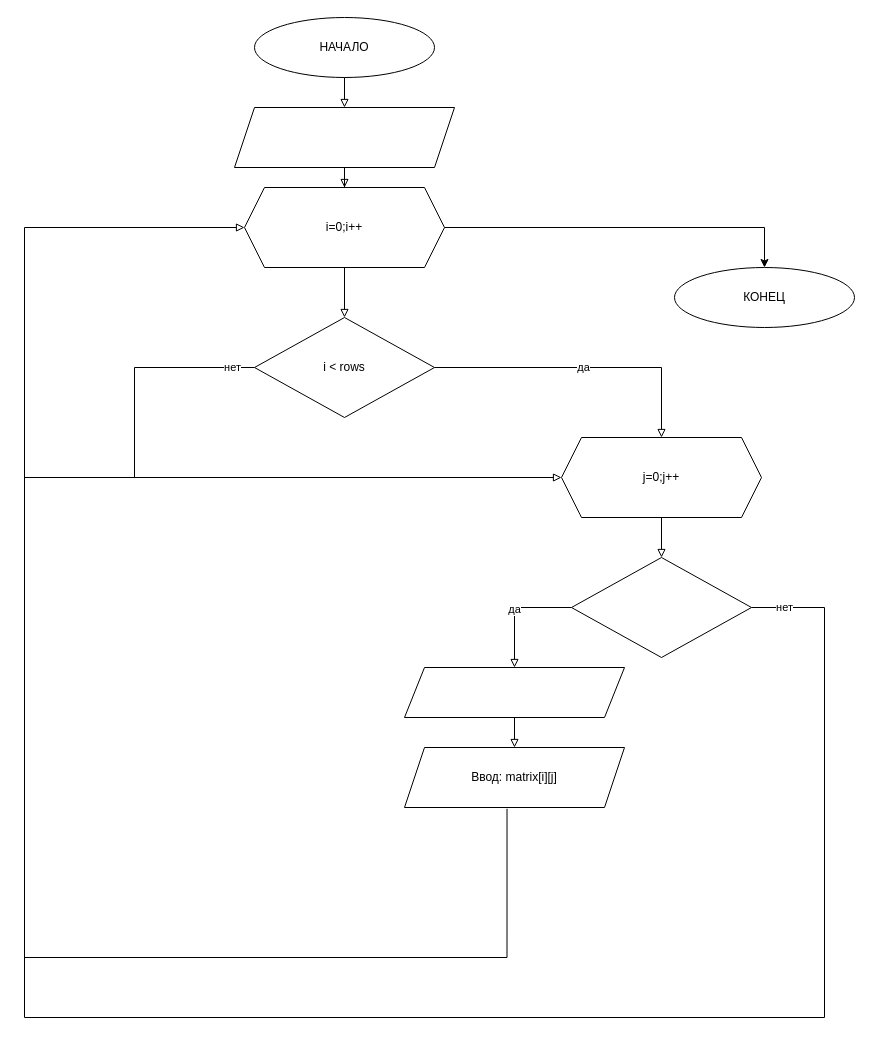
This 872x1043 diagram has some shape labels left out. Each missing label, with the centre of its shape:
j < columns: pixel 661 607
Вывод: "matrix[i][j] = ": pixel 514 692
Вывод: Введите элементы матрицы: pixel 344 137
